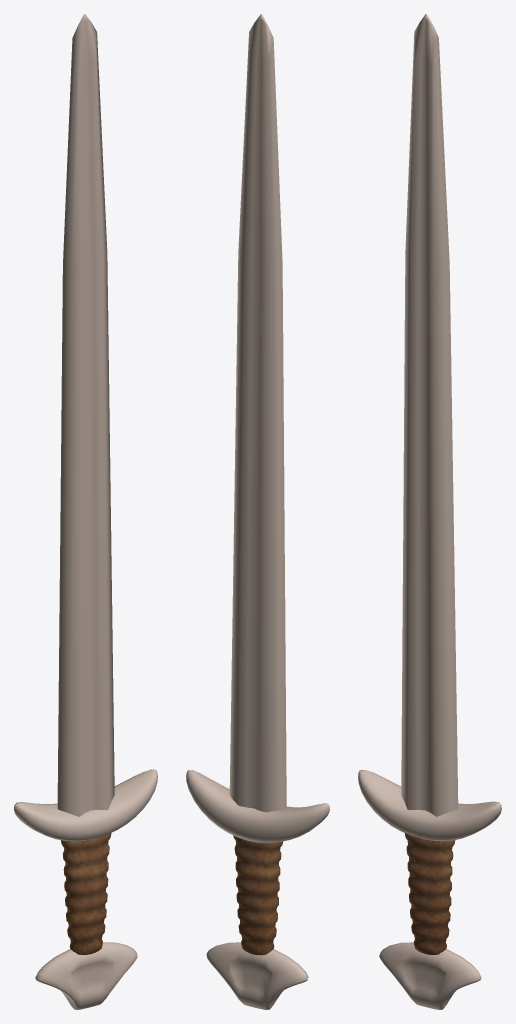
The model's file is basic_sword.glb.
3 views of the same model, side by side, from view 1: azimuth 30°, elevation 25°; view 2: azimuth 150°, elevation 25°; view 3: azimuth 330°, elevation 25° (orthographic).
Visible parts, largest first — view 1: Saxon 54; view 2: Saxon 54; view 3: Saxon 54.
Part boxes in pixels (left/top/right/bottom): Saxon 54: left=14, top=14, right=157, bottom=1009; Saxon 54: left=186, top=14, right=329, bottom=1009; Saxon 54: left=358, top=14, right=501, bottom=1009.
Bounding box in the file's own units: 0.2652 × 1.77 × 0.0767.
1 material, 1 textured.
